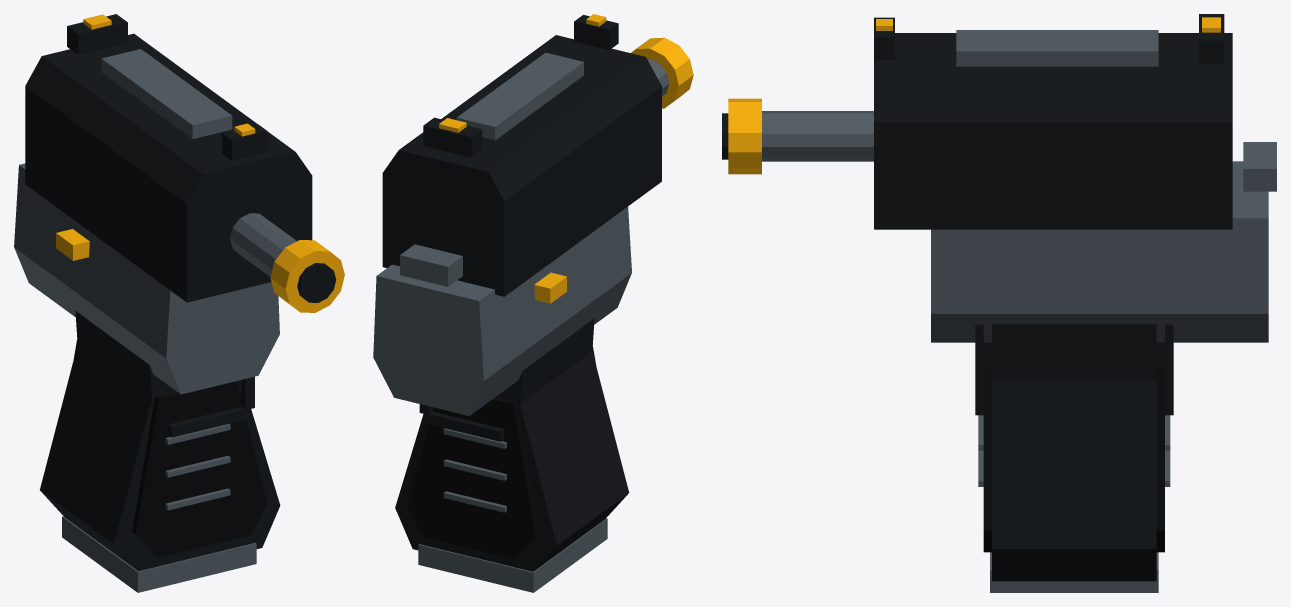
Rendered from ITEM0006_Pistol.obj.
The picture shows the model from 3 angles, left to right: view 1: azimuth 30°, elevation 25°; view 2: azimuth 150°, elevation 25°; view 3: azimuth 270°, elevation 25°; orthographic projection. The views are drawn at different scales.
Visible parts, largest first — view 1: Pistol_Slide, Lower_Frame, Grip_Frame, Grip_Panel_Right, Top_Rail, Magazine_Base, Muzzle_Rim, Barrel, Rear_Sight, Muzzle_Bore, Front_Sight, Trigger_Guard_Bottom (+4 smaller); view 2: Pistol_Slide, Lower_Frame, Grip_Frame, Grip_Panel_Left, Top_Rail, Magazine_Base, Hammer, Muzzle_Rim, Rear_Sight, Front_Sight, Trigger_Guard_Bottom, Safety_Switch (+3 smaller); view 3: Pistol_Slide, Grip_Frame, Lower_Frame, Top_Rail, Barrel, Muzzle_Rim, Magazine_Base, Grip_Panel_Left, Grip_Panel_Right, Hammer, Trigger_Guard_Front, Rear_Sight.
Part boxes in pixels (x1,y1,x2,y2): Pistol_Slide: (25,33,312,302); Lower_Frame: (14,163,279,394); Grip_Frame: (40,311,280,571); Grip_Panel_Right: (132,381,267,557); Top_Rail: (101,49,232,138); Magazine_Base: (62,516,256,592); Muzzle_Rim: (270,240,344,312); Barrel: (230,213,296,276); Rear_Sight: (67,14,127,54); Muzzle_Bore: (297,263,336,302); Front_Sight: (222,124,267,160); Trigger_Guard_Bottom: (168,406,249,437); Pistol_Slide: (382,35,661,296); Lower_Frame: (373,207,631,415); Grip_Frame: (395,318,629,571); Grip_Panel_Left: (407,396,539,558); Top_Rail: (456,52,583,140); Magazine_Base: (418,518,607,592); Hammer: (400,244,462,286); Muzzle_Rim: (631,37,693,108); Rear_Sight: (423,117,482,157); Front_Sight: (574,15,618,50); Trigger_Guard_Bottom: (425,411,504,441); Safety_Switch: (534,272,566,303); Pistol_Slide: (874,33,1232,229); Grip_Frame: (992,324,1156,581); Lower_Frame: (931,161,1268,342); Top_Rail: (956,30,1158,66); Barrel: (762,111,873,161); Muzzle_Rim: (728,98,761,174); Magazine_Base: (990,552,1158,592); Grip_Panel_Left: (1156,342,1164,552); Grip_Panel_Right: (983,342,991,552); Hammer: (1243,142,1276,191); Trigger_Guard_Front: (975,324,1173,407); Rear_Sight: (1199,14,1224,63).
Bounding box in the file's own units: 0.101 × 0.2815 × 0.263.
